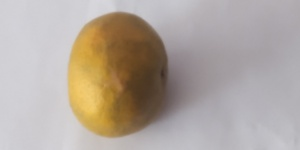BAD: (67, 10, 170, 144)
